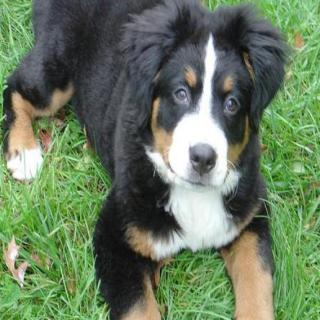dog: (116, 2, 287, 191)
nose: (190, 142, 217, 174)
